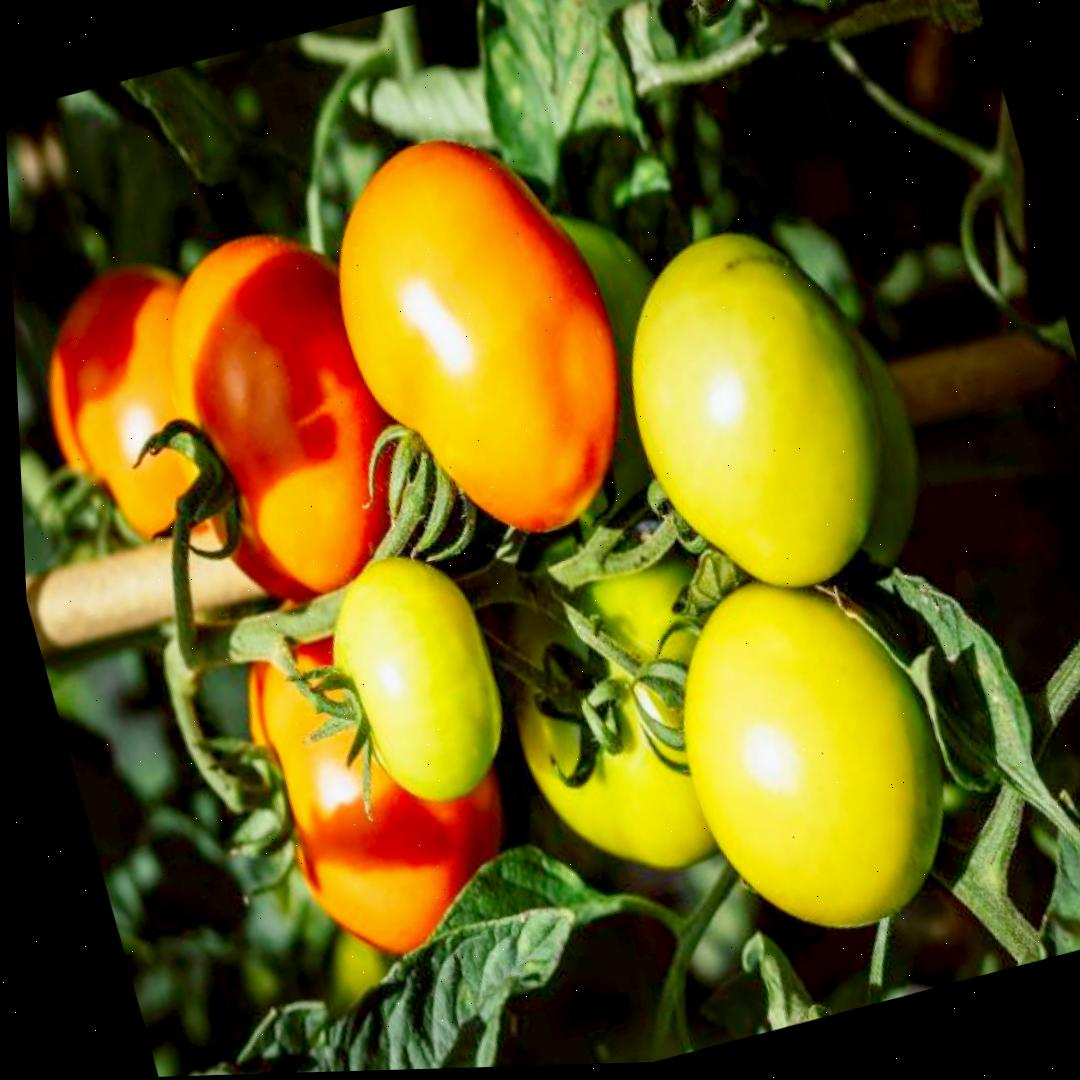matang: (303, 105, 660, 574), (126, 198, 473, 627)
mentah: (643, 541, 979, 962), (588, 202, 923, 619), (306, 536, 527, 821)
